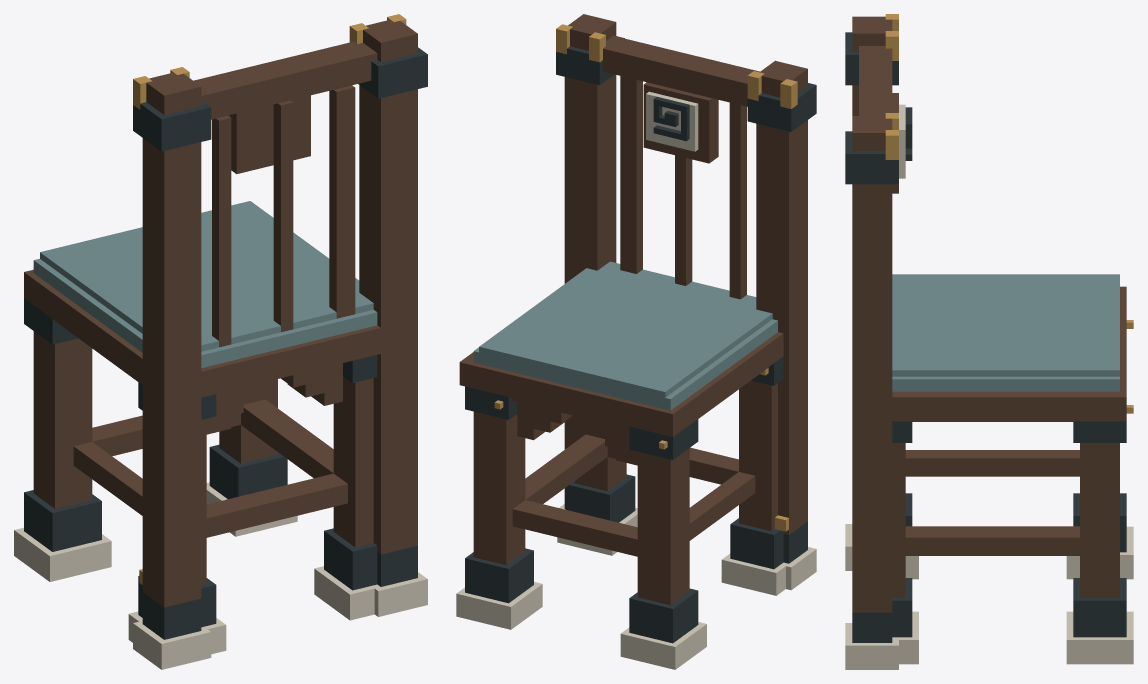
3 renders of one model, left to right at view 1: azimuth 30°, elevation 25°; view 2: azimuth 150°, elevation 25°; view 3: azimuth 270°, elevation 25°, orthographic. The views are drawn at different scales.
Parts seen in each view (by area): view 1: 餐椅; view 2: 餐椅; view 3: 餐椅.
Part boxes in pixels (x1,y1,x2,y2): 餐椅: (14, 14, 427, 669); 餐椅: (456, 14, 816, 669); 餐椅: (845, 14, 1133, 669).
Bounding box in the file's own units: 0.43 × 0.88 × 0.43.
5 materials, 5 textured.
